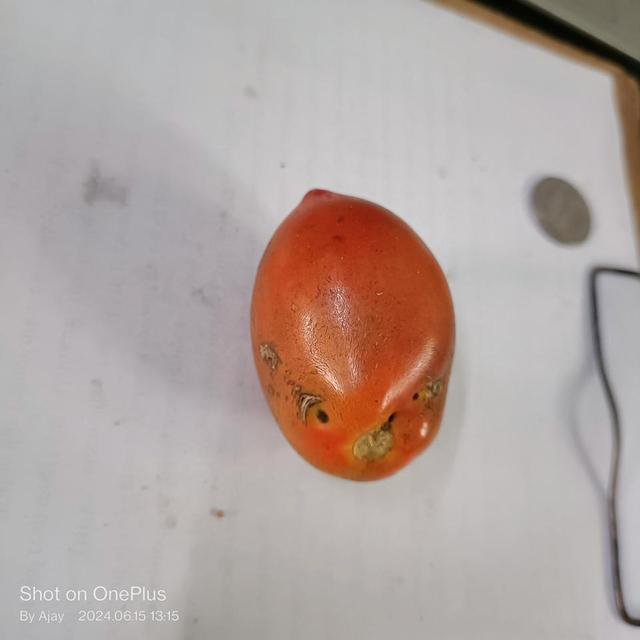Bacterial Spot Fruit: (5, 6, 277, 280)
